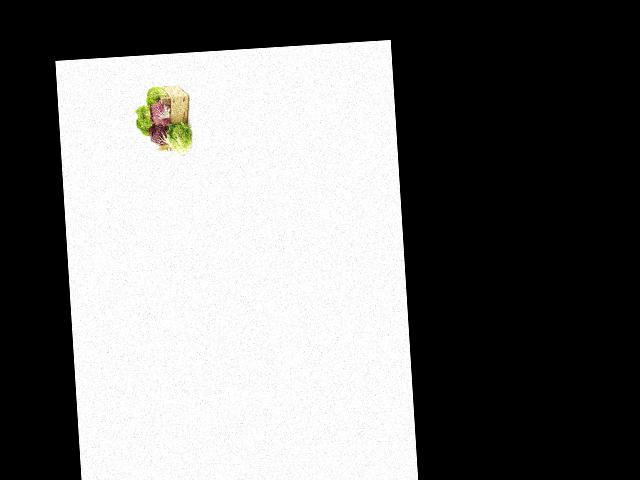lettuce: (134, 104, 157, 136)
